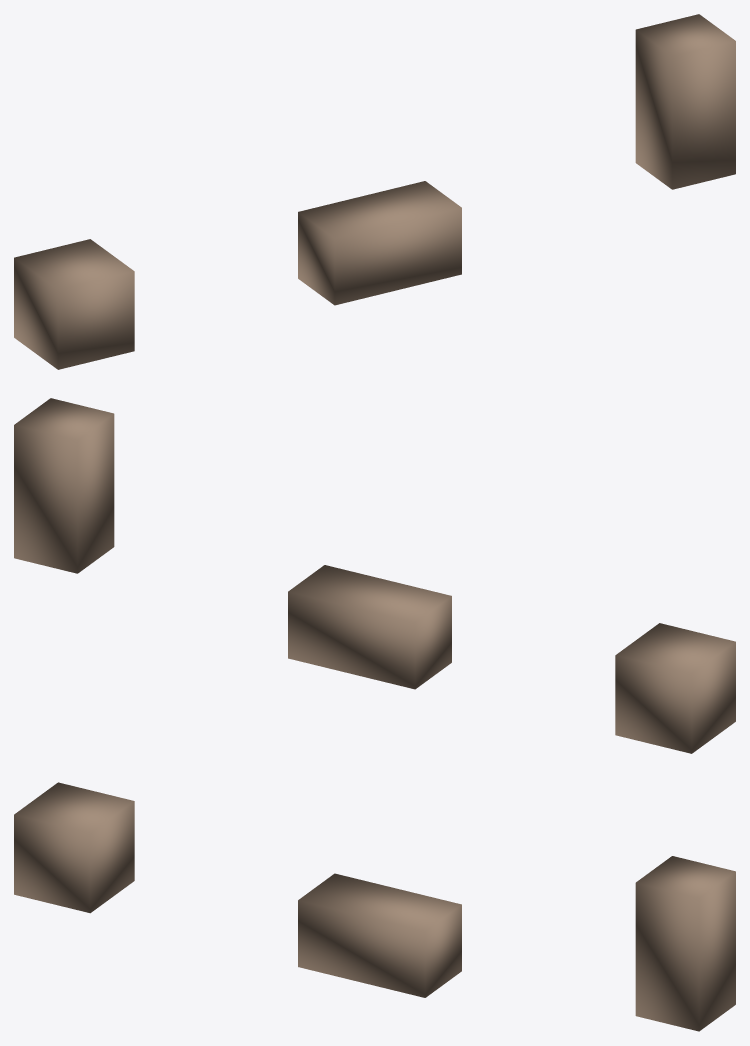
The model's file is target_boxes.glb.
3 renders of one model, top to bottom at view 1: azimuth 30°, elevation 25°; view 2: azimuth 150°, elevation 25°; view 3: azimuth 330°, elevation 25°, orthographic.
Parts seen in each view (by area): view 1: TargetBox_03, TargetBox_02, TargetBox_01; view 2: TargetBox_03, TargetBox_02, TargetBox_01; view 3: TargetBox_03, TargetBox_02, TargetBox_01.
Part boxes in pixels (x1,y1,x2,y2): TargetBox_03: (635,14,735,189); TargetBox_02: (298,181,461,305); TargetBox_01: (14,239,134,369); TargetBox_03: (14,398,114,573); TargetBox_02: (288,565,451,689); TargetBox_01: (615,623,735,753); TargetBox_03: (635,856,735,1031); TargetBox_02: (298,873,461,997); TargetBox_01: (14,782,134,913).
Bounding box in the file's own units: 2.67 × 0.625 × 0.3.
